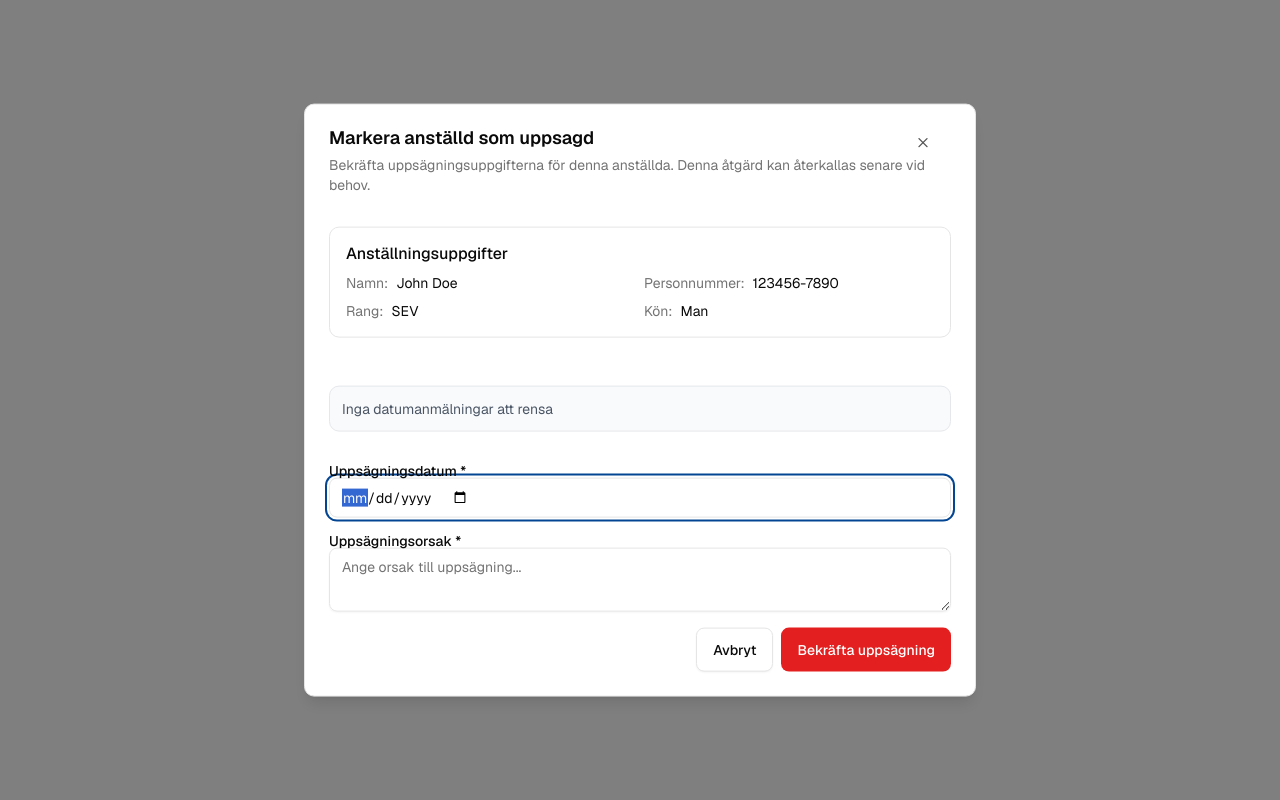
Test: TerminateEmployeeModal › should validate required fields
Click the button "Bekräfta uppsägning".
click(866, 649)  # box x1=781 y1=627 x2=951 y2=671
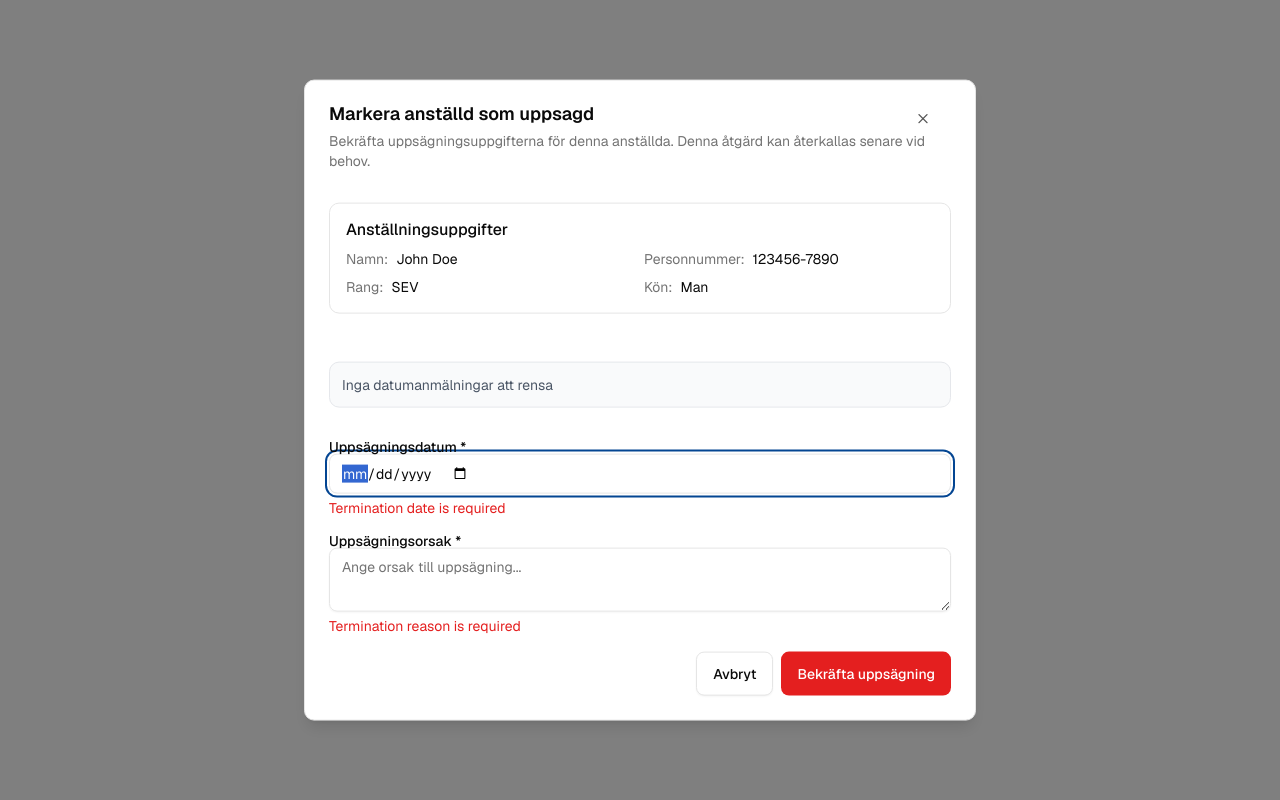
expect the text "Termination date is required" is shown: met, box x1=329 y1=498 x2=506 y2=516
